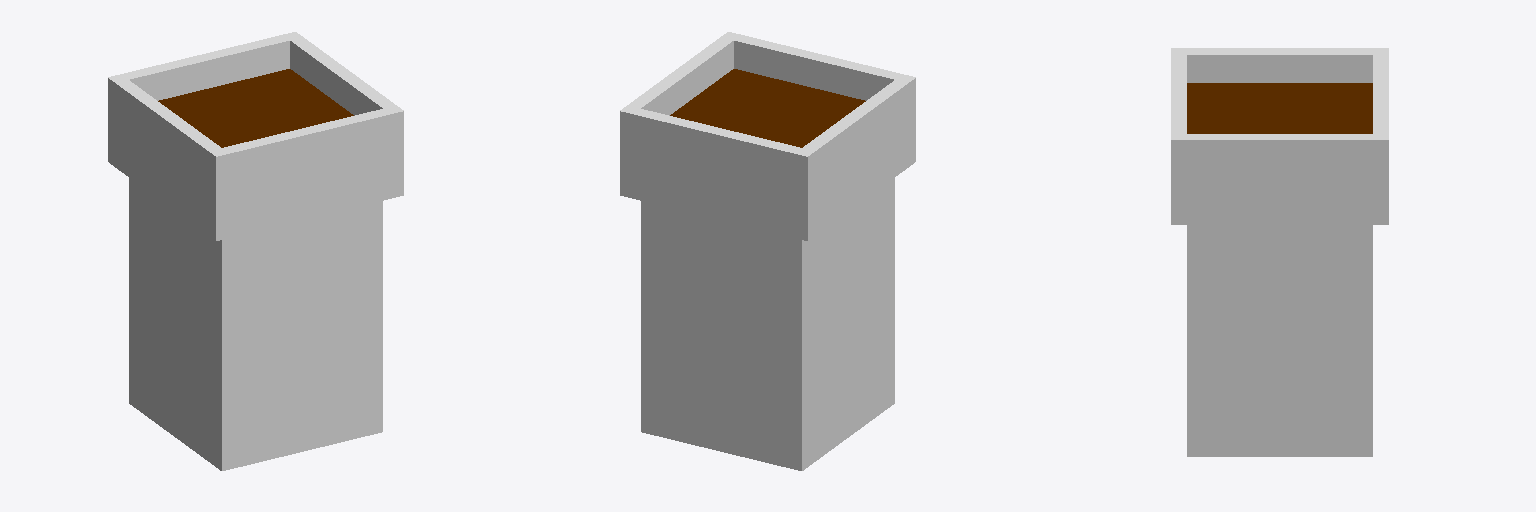
3 views of the same model, side by side, from view 1: azimuth 30°, elevation 25°; view 2: azimuth 150°, elevation 25°; view 3: azimuth 270°, elevation 25° (orthographic).
Visible parts, largest first — view 1: coffee; view 2: coffee; view 3: coffee.
Part boxes in pixels (x1,y1,x2,y2): coffee: (108, 32, 403, 470); coffee: (620, 32, 915, 470); coffee: (1171, 48, 1388, 456).
Size of the model in its own units: 14 by 23 by 14.
Materials: 1 (1 with a texture image).